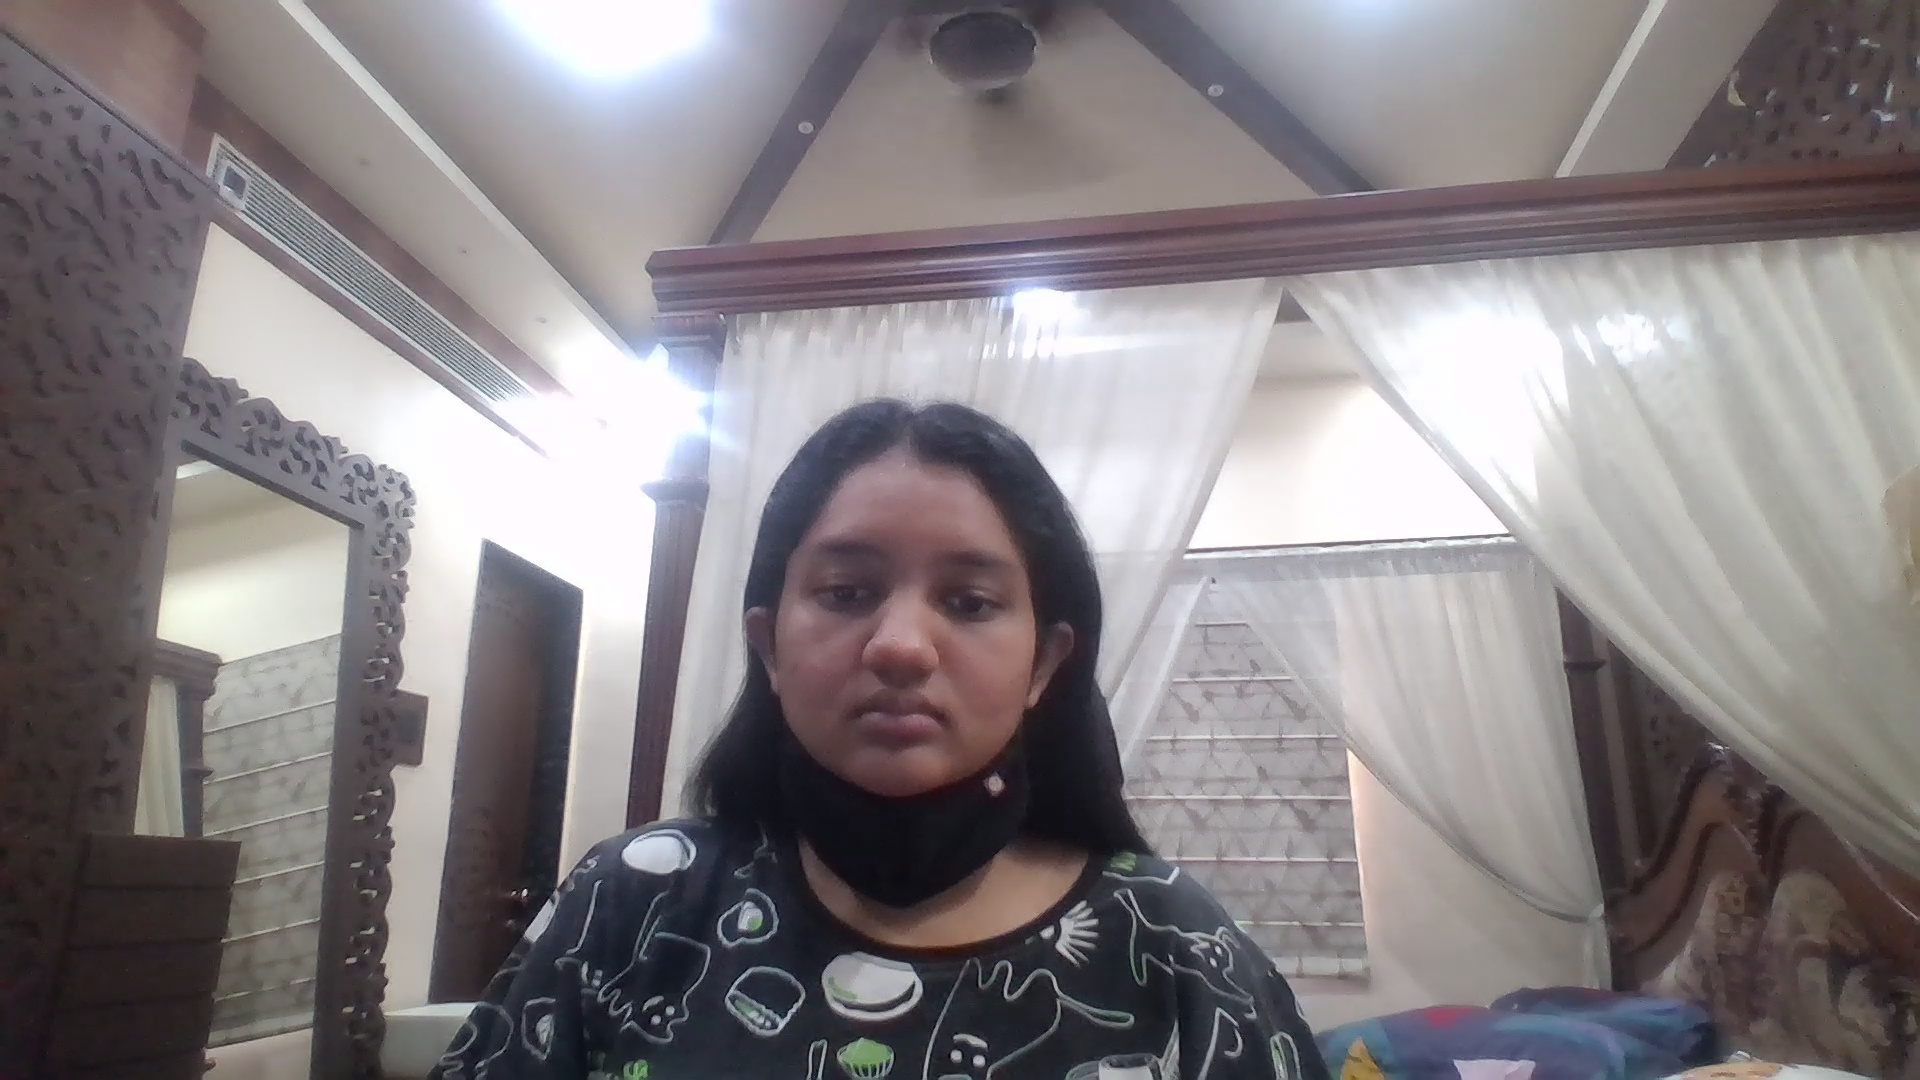No Mask: (795, 633, 1028, 808)
